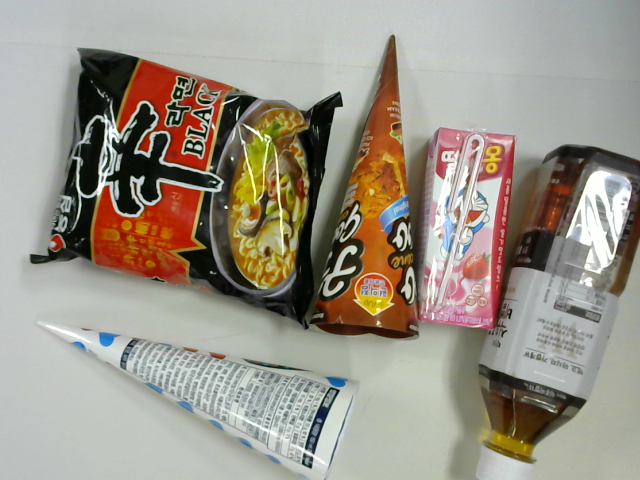Bravo_Cone_(Banila)_CVS: (28, 313, 361, 480)
GooGoo_Cone_CVS: (313, 32, 427, 343)
Post-meal_recipe_W_tea_500ml: (475, 145, 640, 478)
Sinramen_Black: (54, 49, 315, 317)
Strawberry_E_Mong: (416, 128, 510, 331)
